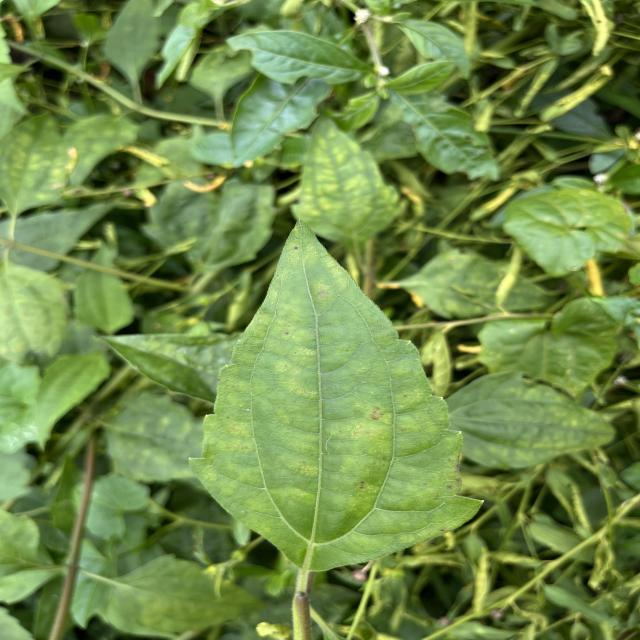Chromolaena odorata: (181, 213, 492, 579)
